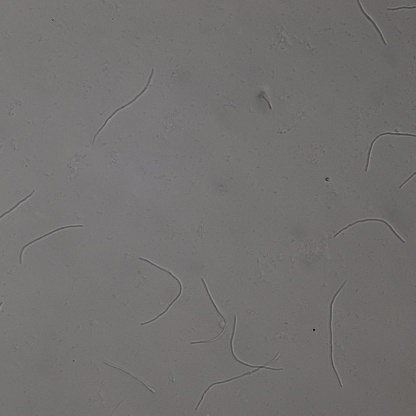Sensitive: (196, 314, 282, 408), (92, 69, 154, 145), (136, 256, 183, 327), (18, 223, 82, 263), (190, 278, 227, 346), (327, 280, 347, 388), (365, 131, 416, 172), (333, 216, 405, 244), (104, 362, 153, 392), (356, 1, 386, 45), (1, 190, 34, 219)
